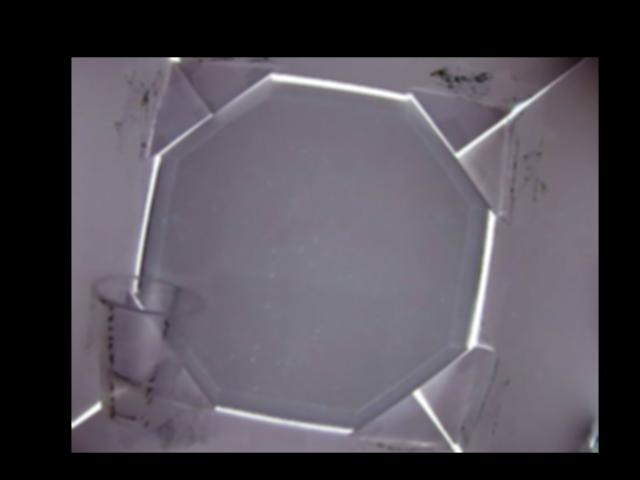Cup: (91, 275, 207, 423)
